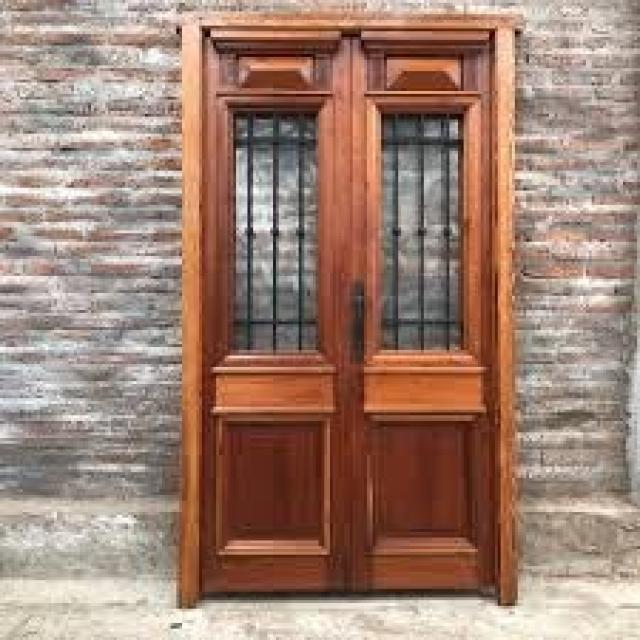door: (185, 18, 515, 604)
